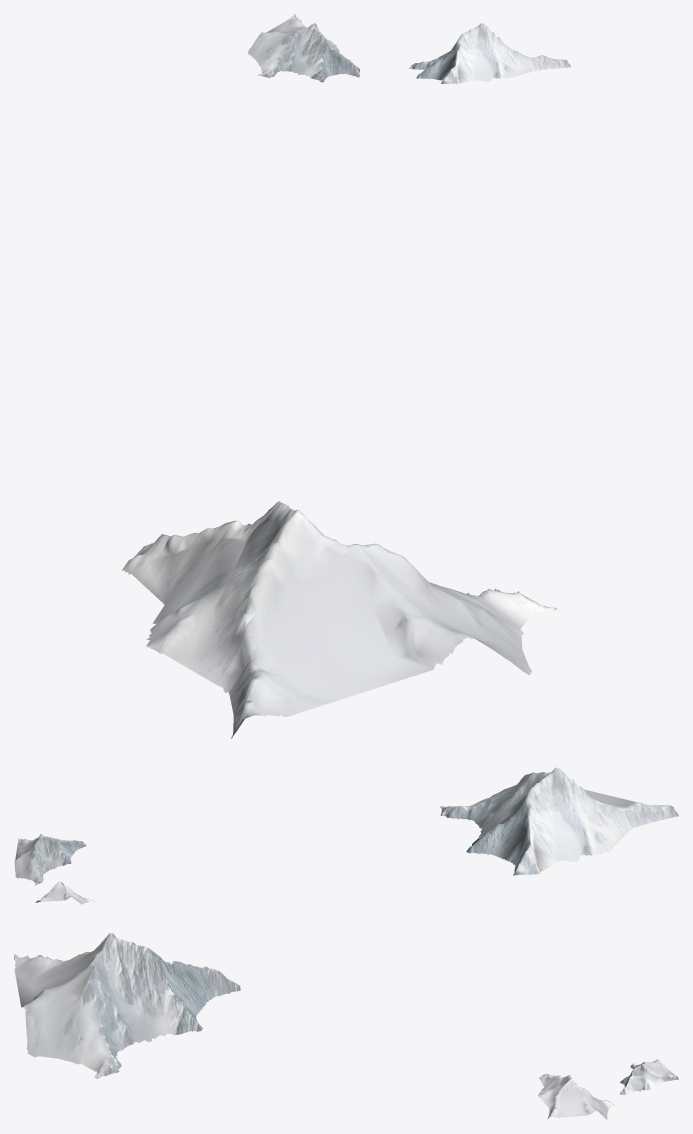
The model's file is Homepage.glb.
3 renders of one model, top to bottom at view 1: azimuth 30°, elevation 25°; view 2: azimuth 150°, elevation 25°; view 3: azimuth 270°, elevation 25°, orthographic. The views are drawn at different scales.
Visible parts, largest first — view 1: HomepagePeaks.BG, HomepagePeaks, HomepagePeaks.002; view 2: HomepagePeaks.BG, HomepagePeaks, HomepagePeaks.002; view 3: HomepagePeaks.BG, HomepagePeaks, HomepagePeaks.002.
Boxes of the visible parts, x1,y1,x2,y2 form: HomepagePeaks.BG: (122, 501, 557, 738); HomepagePeaks: (409, 23, 570, 83); HomepagePeaks.002: (248, 14, 359, 82); HomepagePeaks.BG: (440, 767, 678, 875); HomepagePeaks: (14, 834, 86, 885); HomepagePeaks.002: (35, 881, 95, 904); HomepagePeaks.BG: (14, 933, 240, 1078); HomepagePeaks: (538, 1073, 616, 1119); HomepagePeaks.002: (620, 1059, 678, 1094).
Size of the model in its own units: 505 by 103 by 645.
Materials: 1 (1 with a texture image).
